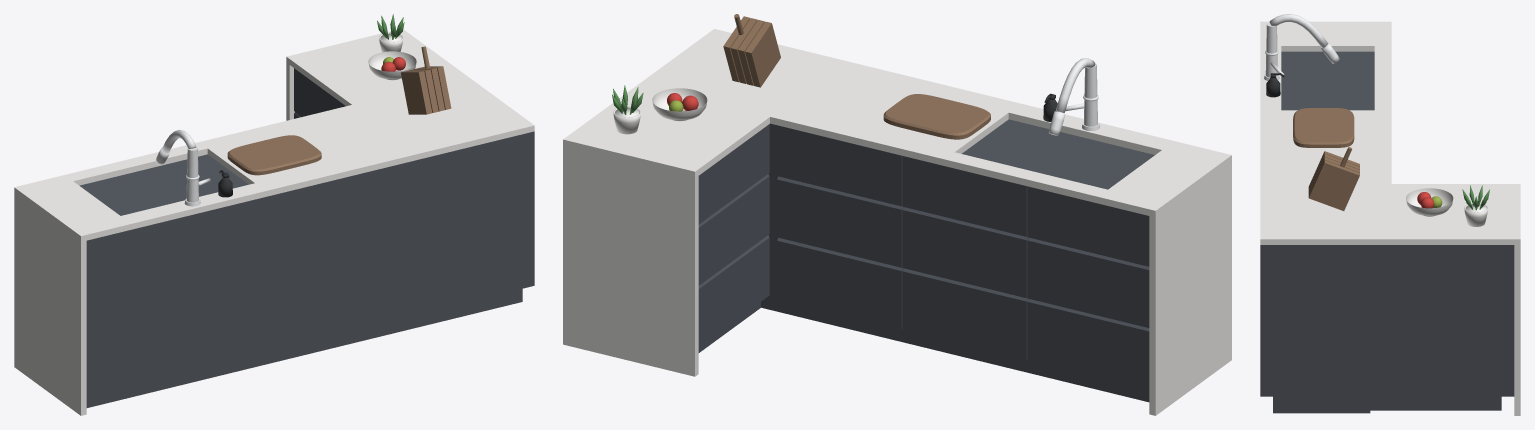
Rendered from kitchen_counter.glb.
3 views of the same model, side by side, from view 1: azimuth 30°, elevation 25°; view 2: azimuth 150°, elevation 25°; view 3: azimuth 270°, elevation 25° (orthographic). The views are drawn at different scales.
Parts seen in each view (by area): view 1: SM_Counter_Carcass, SM_Counter_Top, SM_Counter_Waterfall_L, SM_Counter_ToeKick, SM_CuttingBoard, SM_KnifeBlock, SM_Counter_DrawerFronts_Return, SM_Counter_Waterfall_Return, SM_FruitBowl, SM_Faucet_Body; view 2: SM_Counter_DrawerFronts, SM_Counter_Top, SM_Counter_Waterfall_Return, SM_Counter_Waterfall_L, SM_Counter_DrawerFronts_Return, SM_Counter_Carcass, SM_Counter_ToeKick, SM_CuttingBoard, SM_KnifeBlock, SM_FruitBowl, SM_Faucet_Body, SM_Faucet_Neck; view 3: SM_Counter_Carcass, SM_Counter_Top, SM_Counter_ToeKick, SM_CuttingBoard, SM_KnifeBlock, SM_Counter_Waterfall_Return, SM_FruitBowl, SM_Faucet_Body, SM_Faucet_Neck, SM_PlantPot, SM_Counter_Waterfall_L, SM_PlantLeaves (+1 smaller).
Boxes of the visible parts, x1,y1,x2,y2 form: SM_Counter_Carcass: [79, 131, 534, 394]; SM_Counter_Top: [20, 31, 534, 240]; SM_Counter_Waterfall_L: [14, 186, 86, 415]; SM_Counter_ToeKick: [86, 288, 522, 407]; SM_CuttingBoard: [227, 135, 321, 175]; SM_KnifeBlock: [400, 46, 451, 114]; SM_Counter_DrawerFronts_Return: [294, 68, 345, 118]; SM_Counter_Waterfall_Return: [286, 29, 404, 120]; SM_FruitBowl: [368, 51, 416, 80]; SM_Faucet_Body: [184, 147, 200, 206]; SM_Counter_DrawerFronts: [777, 125, 1149, 389]; SM_Counter_Top: [567, 29, 1224, 215]; SM_Counter_Waterfall_Return: [563, 137, 698, 376]; SM_Counter_Waterfall_L: [1149, 153, 1231, 415]; SM_Counter_DrawerFronts_Return: [698, 124, 769, 346]; SM_Counter_Carcass: [768, 119, 1154, 296]; SM_Counter_ToeKick: [698, 295, 1149, 402]; SM_CuttingBoard: [883, 94, 990, 139]; SM_KnifeBlock: [723, 14, 780, 87]; SM_FruitBowl: [652, 88, 707, 121]; SM_Faucet_Body: [1082, 63, 1099, 130]; SM_Faucet_Neck: [1056, 58, 1095, 113]; SM_Counter_Carcass: [1260, 51, 1514, 396]; SM_Counter_Top: [1260, 24, 1514, 244]; SM_Counter_ToeKick: [1273, 396, 1501, 413]; SM_CuttingBoard: [1293, 108, 1354, 147]; SM_KnifeBlock: [1308, 147, 1359, 210]; SM_Counter_Waterfall_Return: [1514, 184, 1520, 415]; SM_FruitBowl: [1406, 188, 1453, 216]; SM_Faucet_Body: [1264, 22, 1279, 80]; SM_Faucet_Neck: [1269, 14, 1327, 48]; SM_PlantPot: [1464, 203, 1487, 226]; SM_Counter_Waterfall_L: [1260, 21, 1391, 24]; SM_PlantLeaves: [1462, 185, 1489, 210].
Bounding box in the file's own units: 2.43 × 1.25 × 1.23.
